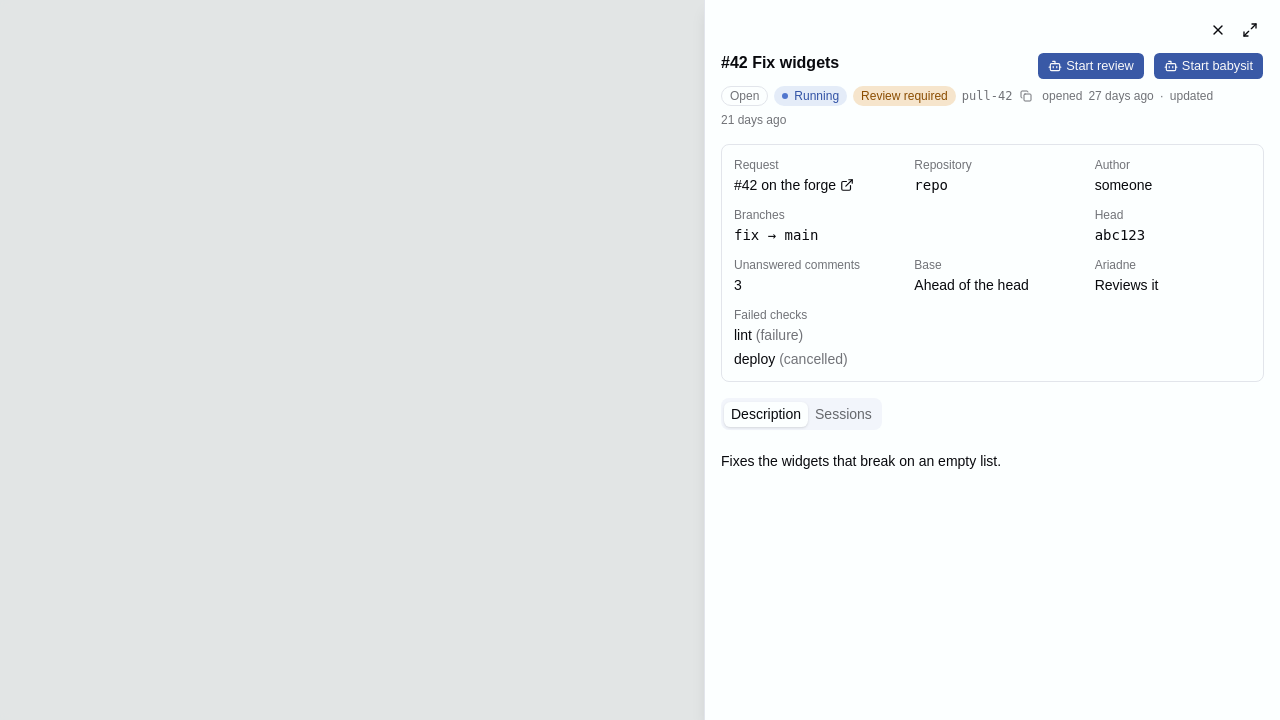
Test: links each failed check to its run, and lists the request's review sessions
Expected: the list item "deploy" is shown, [734,351,775,367]
Expected: the text "Ahead of the head" is shown, [914,277,1029,293]
Click the tab "Sessions". click: (843, 414)
box: [808,402,879,426]
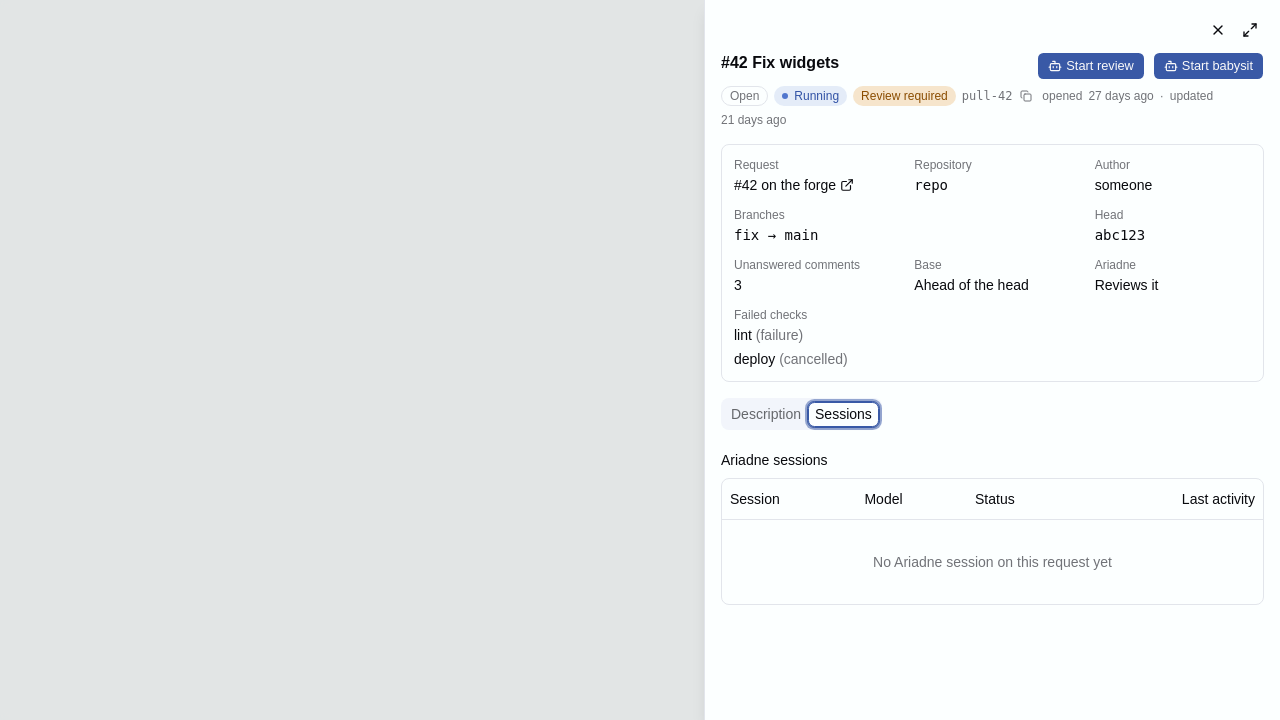
Now the text "No Ariadne session on this request yet" is shown, box [873,552,1112,572]
